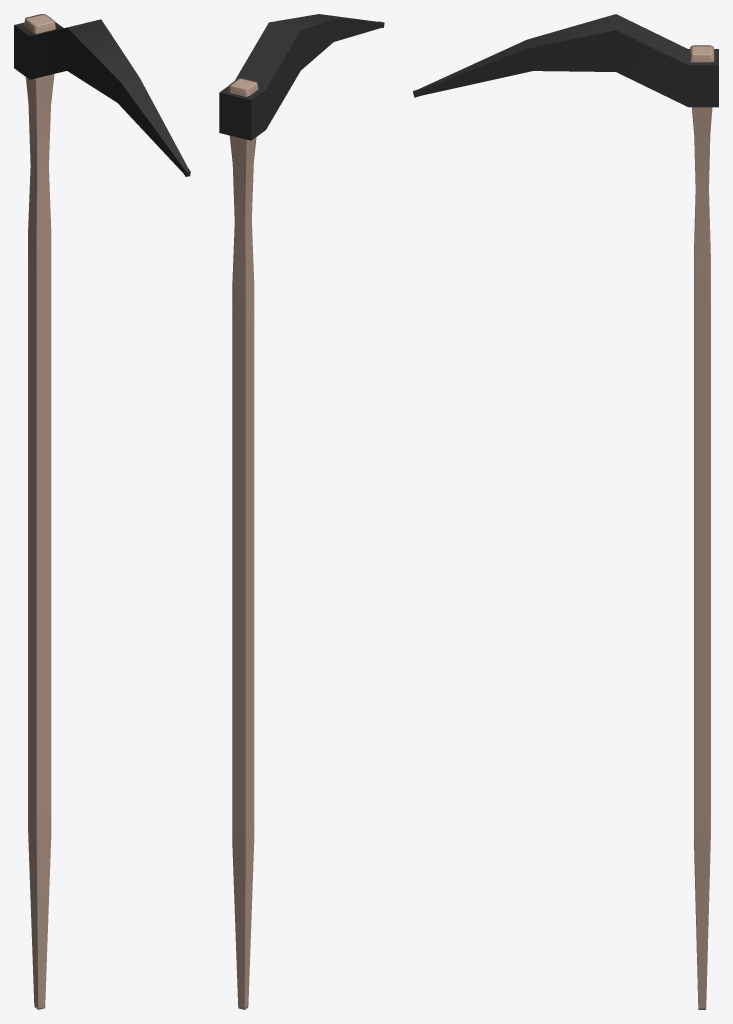
The model's file is Scythe.fbx.
The picture shows the model from 3 angles, left to right: view 1: azimuth 30°, elevation 25°; view 2: azimuth 150°, elevation 25°; view 3: azimuth 270°, elevation 25°; orthographic projection. The views are drawn at different scales.
Parts seen in each view (by area): view 1: Scythe; view 2: Scythe; view 3: Scythe.
Part boxes in pixels (bbox=[...]): Scythe: bbox=[14, 14, 190, 1009]; Scythe: bbox=[219, 14, 384, 1009]; Scythe: bbox=[413, 14, 718, 1009].
Size of the model in its own units: 24.6 by 700 by 197.
